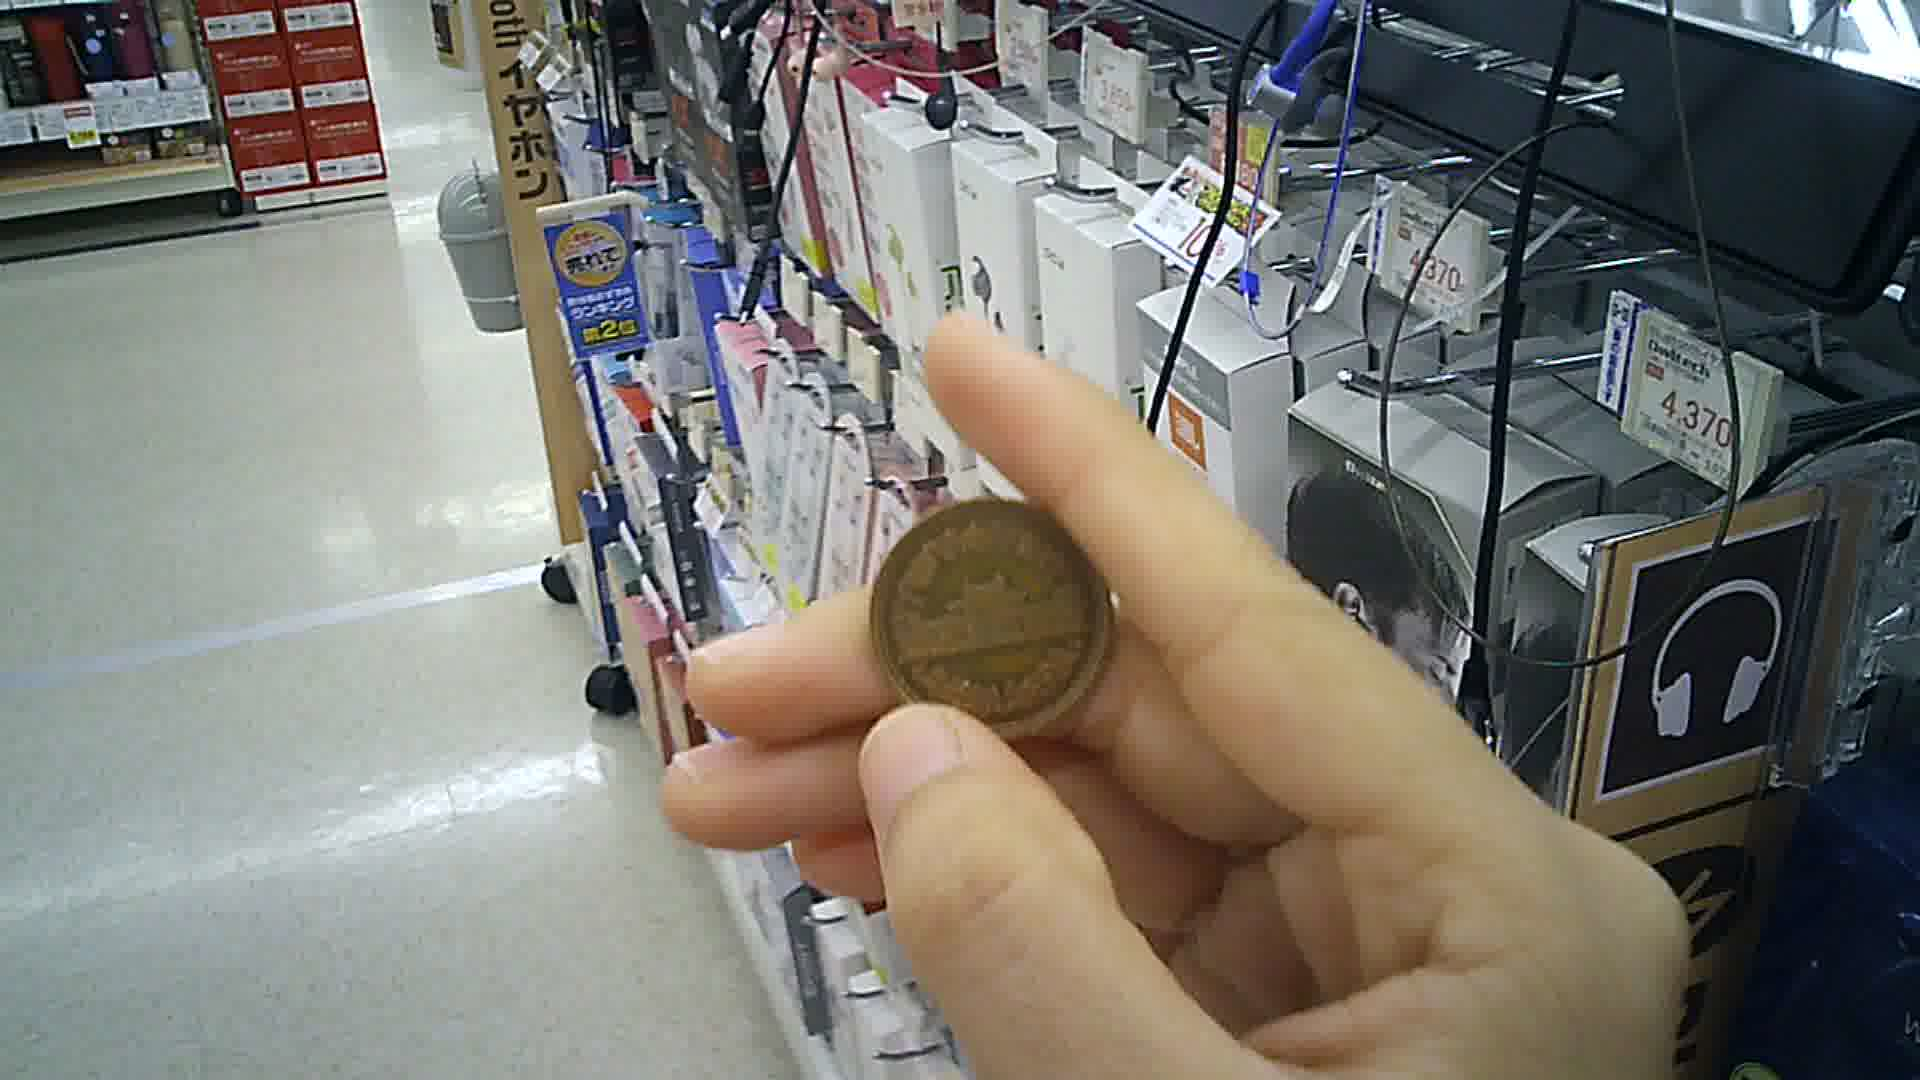10 Yen: (868, 496, 1112, 735)
